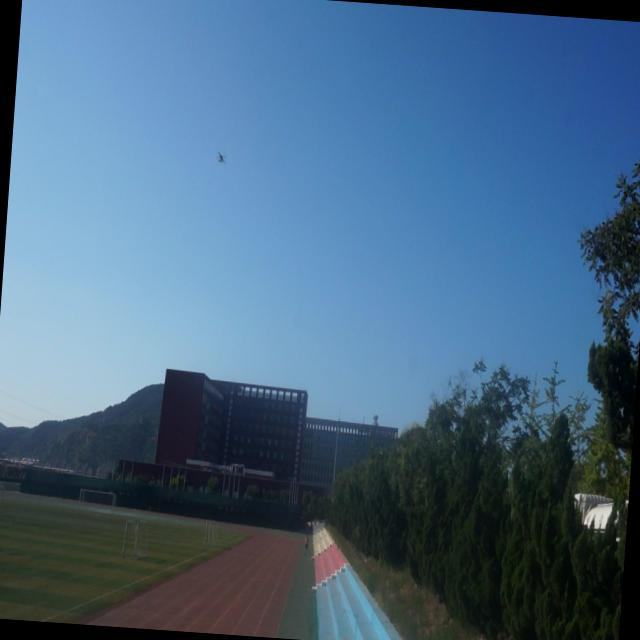drone: (214, 148, 227, 166)
